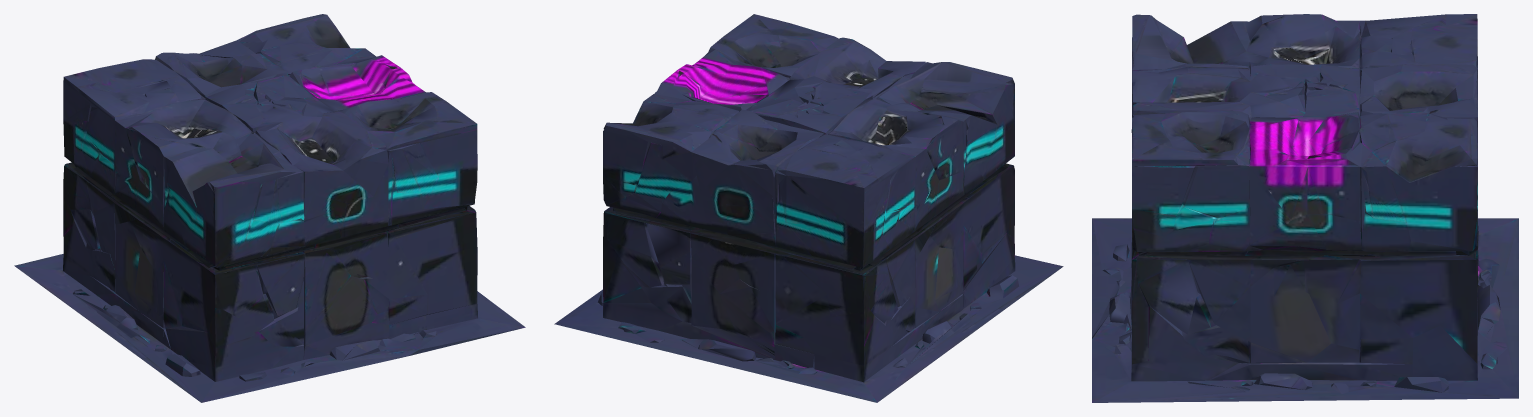
The model's file is wall_city.glb.
3 views of the same model, side by side, from view 1: azimuth 30°, elevation 25°; view 2: azimuth 150°, elevation 25°; view 3: azimuth 270°, elevation 25° (orthographic). The views are drawn at different scales.
Size of the model in its own units: 1.9 by 1.12 by 1.9.
Materials: 1 (1 with a texture image).
